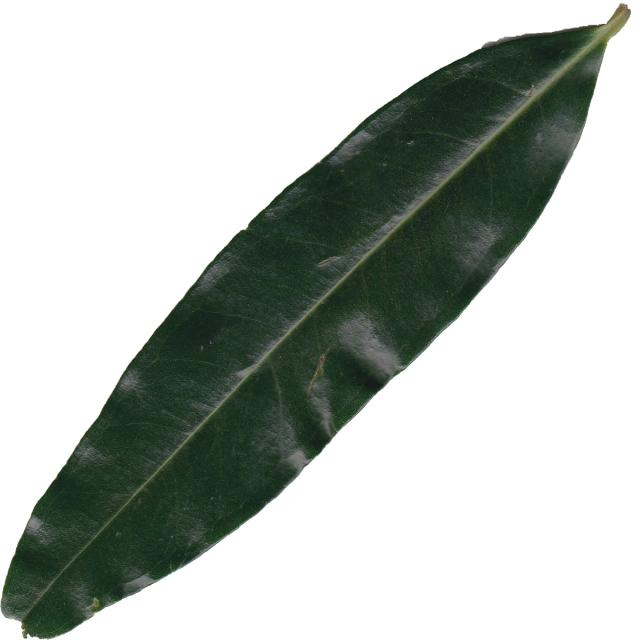Medicinal-Rose Apple: (2, 4, 640, 640)
